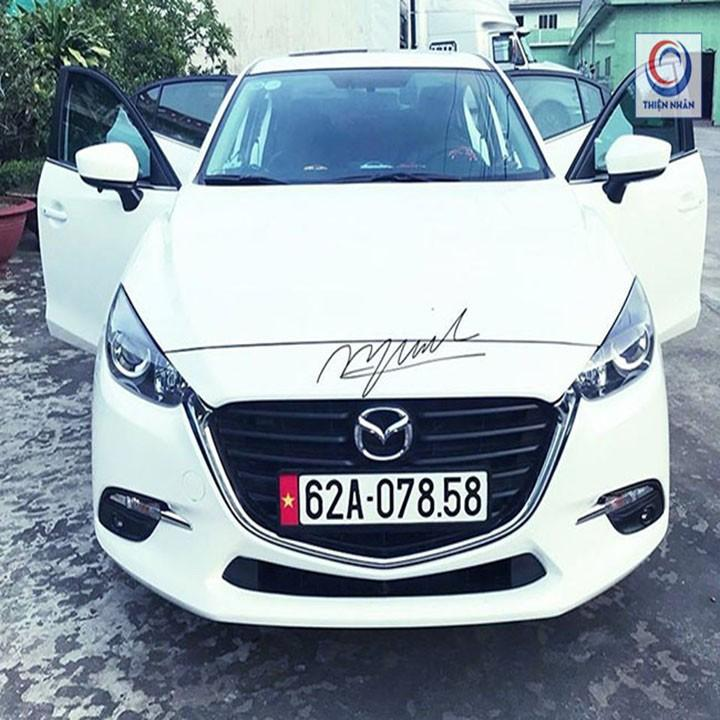numplate: (273, 468, 492, 531)
